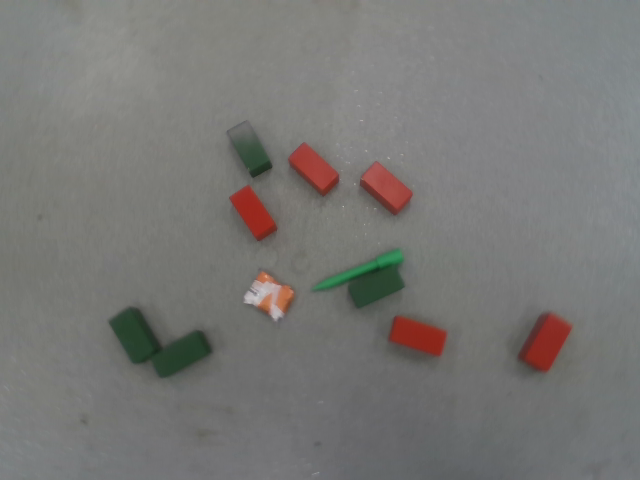Probe: (308, 245, 406, 293)
